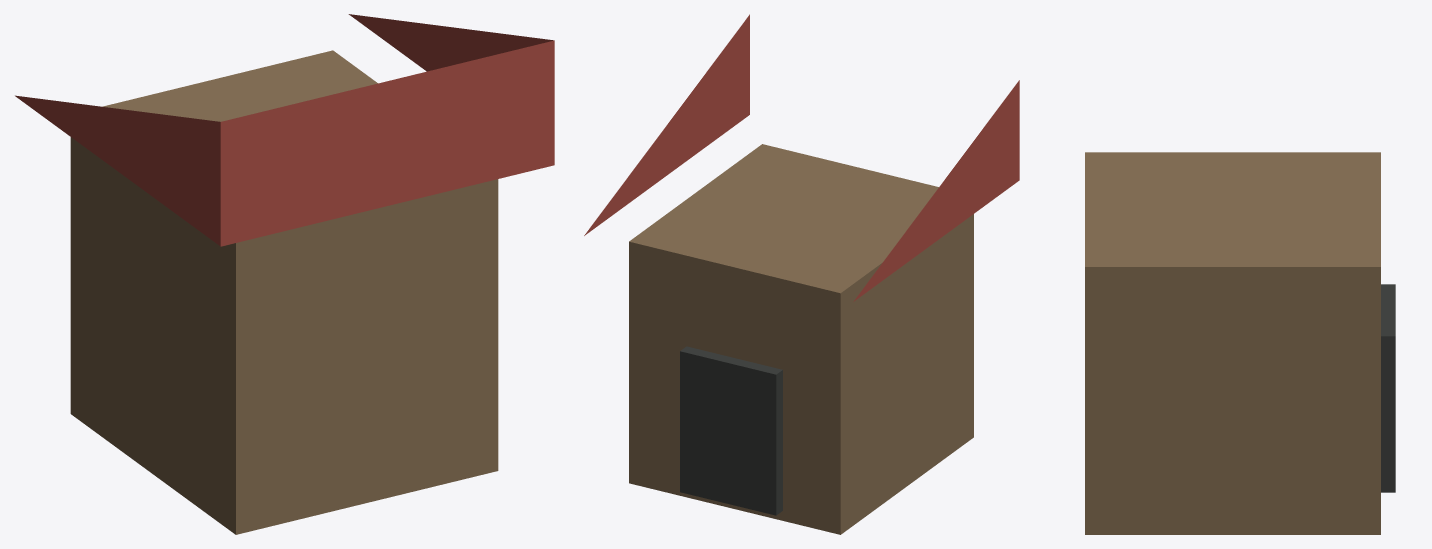
Rendered from p_budka.glb.
3 renders of one model, left to right at view 1: azimuth 30°, elevation 25°; view 2: azimuth 150°, elevation 25°; view 3: azimuth 270°, elevation 25°, orthographic. The views are drawn at different scales.
Parts seen in each view (by area): view 1: body; view 2: body; view 3: body.
Boxes of the visible parts, left/top/right/bottom form: body: left=15, top=14, right=554, bottom=534; body: left=584, top=14, right=1019, bottom=534; body: left=1085, top=152, right=1395, bottom=534.
Size of the model in its own units: 1.4 by 1.75 by 1.5.
